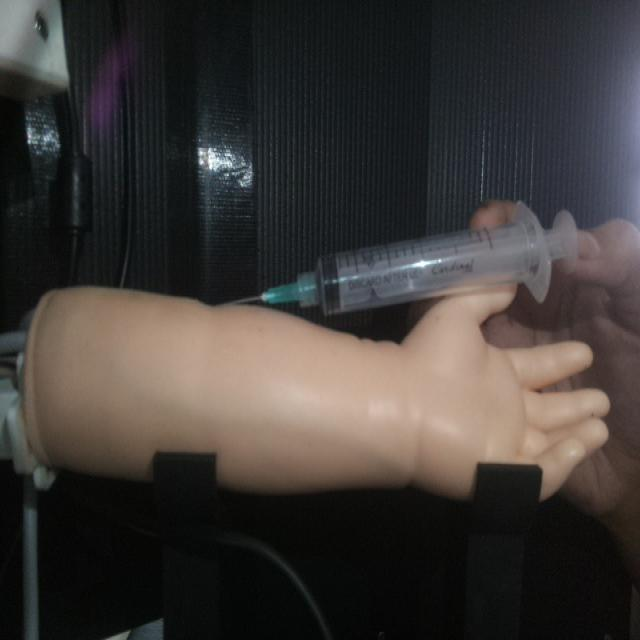Outside: (223, 196, 582, 319)
